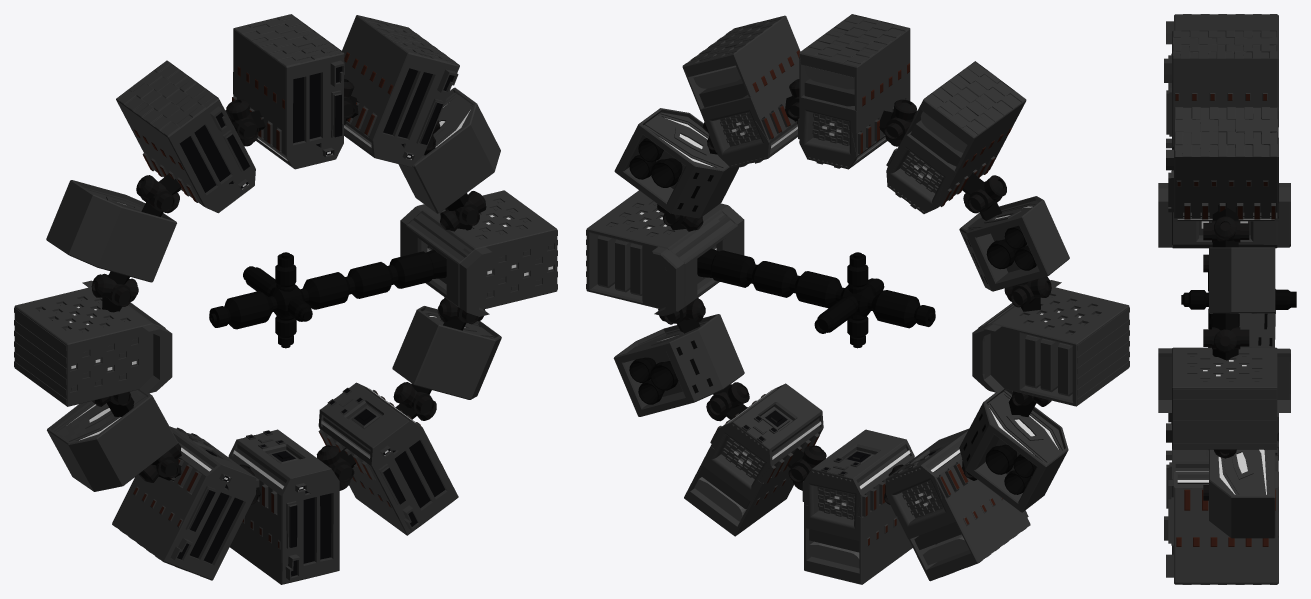
The model's file is endurancespaceship.obj.
The picture shows the model from 3 angles, left to right: view 1: azimuth 30°, elevation 25°; view 2: azimuth 150°, elevation 25°; view 3: azimuth 270°, elevation 25°; orthographic projection.
Parts seen in each view (by area): view 1: 3rd_box.001, box_1_.001, box_1_, 3rd_box, Cube.001, Cube.006, Cube.003, Cube.005, Cylinder.012, 2nd_box.003, 2nd_box.001, box_2.001 (+9 smaller); view 2: 3rd_box.001, box_1_.001, box_1_, Cube.001, 3rd_box, Cube.003, Cube.005, Cube.006, Cylinder.012, box_2.001, 2nd_box.002, 2nd_box.001 (+7 smaller); view 3: 3rd_box, Cube.001, box_1_.001, Cube.005, 2nd_box.002, box_2.001, 3rd_box.001, Cube.003, box_1_, 2nd_box.001, spaceship_ring, Cylinder.012 (+3 smaller).
Part boxes in pixels (x1,y1,x2,y2): 3rd_box.001: (14,280,172,406); box_1_.001: (232,14,344,169); box_1_: (228,429,339,584); 3rd_box: (400,190,557,316); Cube.001: (342,15,459,166); Cube.006: (112,426,256,580); Cube.003: (116,60,255,213); Cube.005: (318,382,458,535); Cylinder.012: (209,249,446,348); 2nd_box.003: (46,180,176,282); 2nd_box.001: (47,389,177,491); box_2.001: (398,87,500,213); 3rd_box.001: (972,280,1129,406); box_1_.001: (798,14,910,169); box_1_: (802,429,914,584); Cube.001: (682,15,800,167); 3rd_box: (586,190,744,315); Cube.003: (886,61,1026,213); Cube.005: (684,383,823,536); Cube.006: (886,428,1030,581); Cylinder.012: (697,248,935,348); box_2.001: (614,108,739,218); 2nd_box.002: (613,314,744,416); 2nd_box.001: (959,389,1068,512); 3rd_box: (1158,347,1290,449); Cube.001: (1166,107,1278,221); box_1_.001: (1164,30,1278,149); Cube.005: (1166,470,1278,584); 2nd_box.002: (1209,449,1275,538); box_2.001: (1209,247,1275,313); 3rd_box.001: (1158,170,1290,248); Cube.003: (1166,14,1278,126); box_1_: (1164,441,1278,554); 2nd_box.001: (1208,289,1275,347); spaceship_ring: (1212,203,1238,458); Cylinder.012: (1181,269,1296,347).
Bounding box in the file's own units: 4.77 × 4.8 × 1.17.
